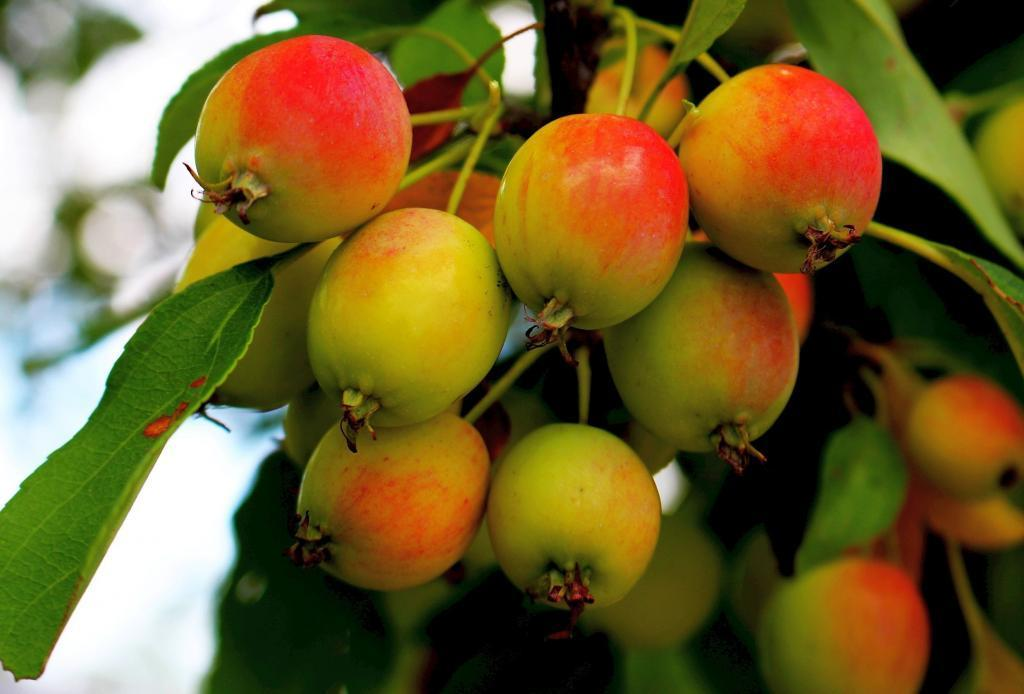apple: (192, 34, 413, 241), (674, 59, 883, 277), (603, 239, 799, 465), (490, 112, 691, 331), (311, 205, 509, 415), (316, 412, 507, 594), (486, 420, 661, 615)
